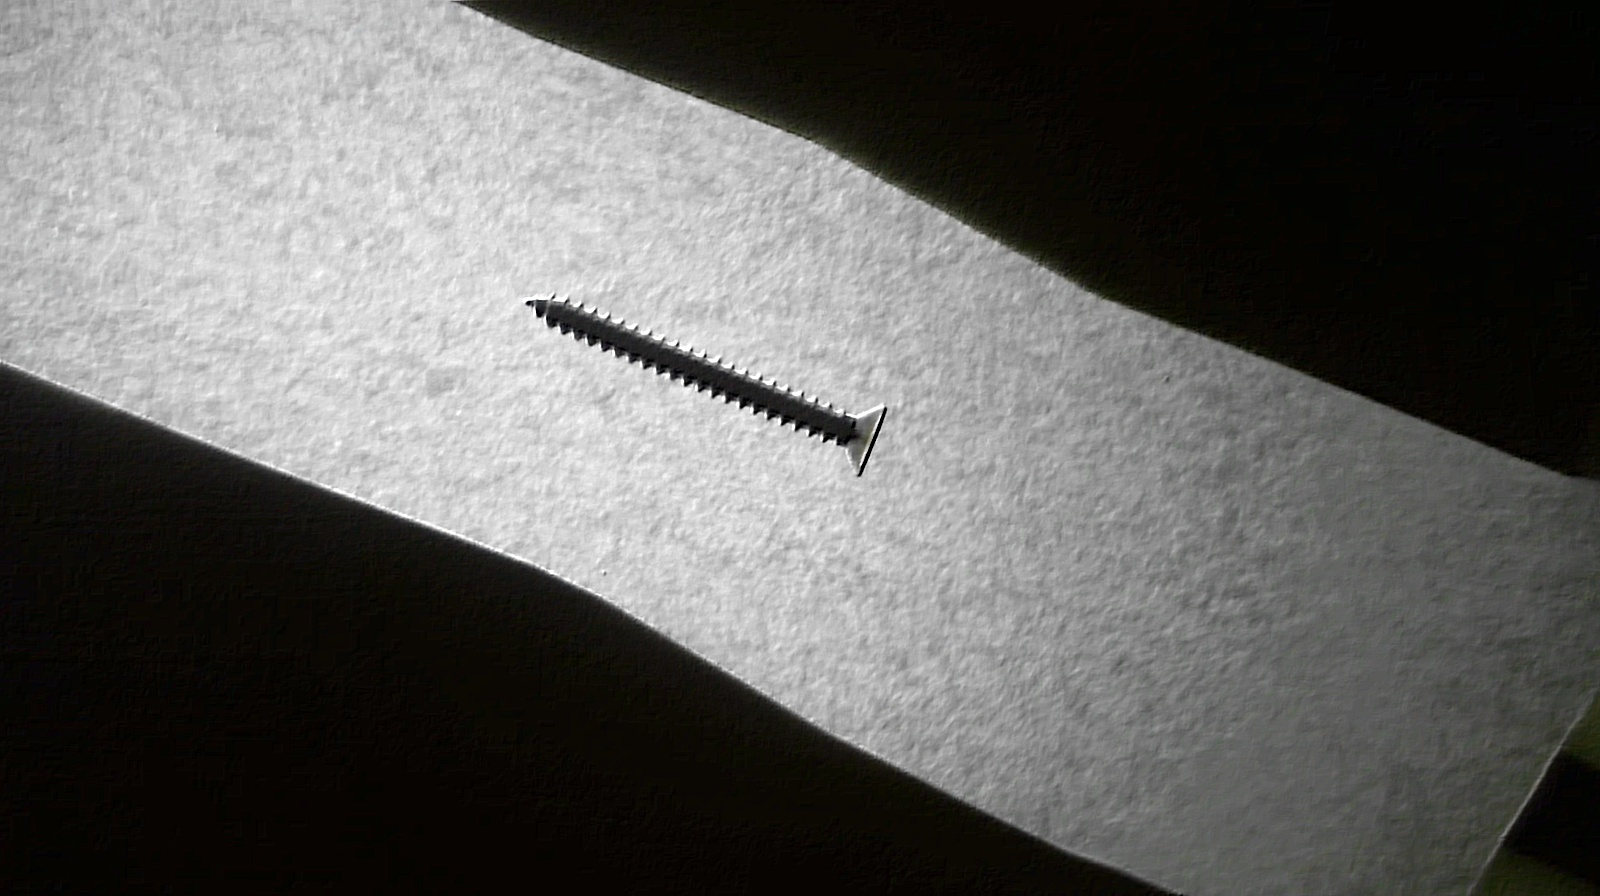S002: (513, 284, 890, 480)
